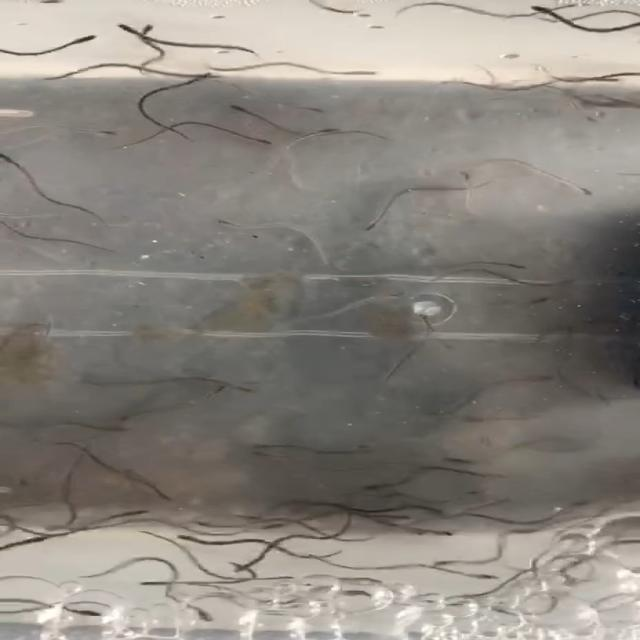active_glass_eel: (204, 384, 239, 406), (442, 166, 494, 180), (124, 500, 160, 520), (477, 562, 511, 583), (288, 101, 335, 115), (230, 378, 262, 398), (496, 257, 536, 273), (186, 514, 226, 530), (138, 578, 191, 590), (69, 604, 104, 622), (432, 524, 463, 544), (428, 558, 466, 574), (127, 24, 170, 38), (219, 101, 256, 117), (352, 217, 386, 234), (438, 74, 482, 87), (187, 66, 221, 82), (256, 519, 292, 534), (522, 0, 558, 15), (62, 34, 102, 47), (193, 606, 227, 621), (227, 558, 261, 573), (240, 136, 282, 148), (311, 124, 347, 138), (444, 452, 474, 468), (350, 63, 379, 79), (414, 310, 437, 330), (190, 72, 228, 84), (357, 481, 391, 494), (586, 74, 630, 84), (215, 217, 247, 230), (166, 532, 202, 543), (0, 148, 24, 164), (113, 23, 147, 34), (571, 185, 598, 198), (563, 0, 592, 12), (97, 128, 124, 138)
